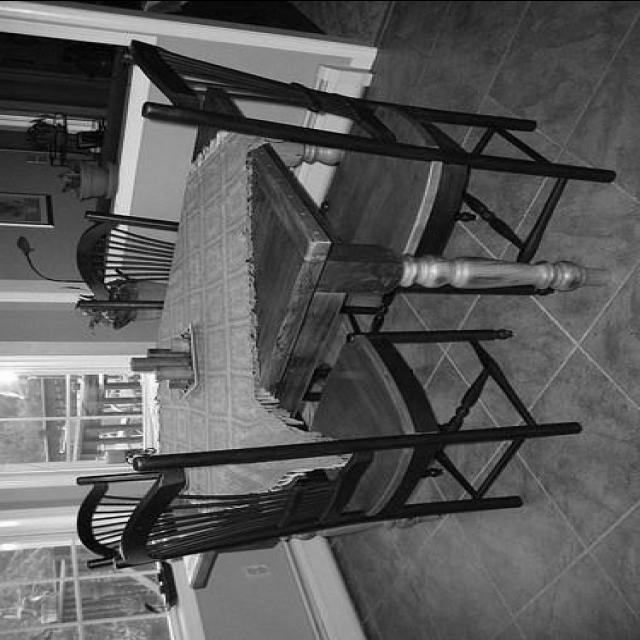chair: (125, 39, 592, 295), (109, 330, 582, 570)
table: (156, 87, 606, 589)
